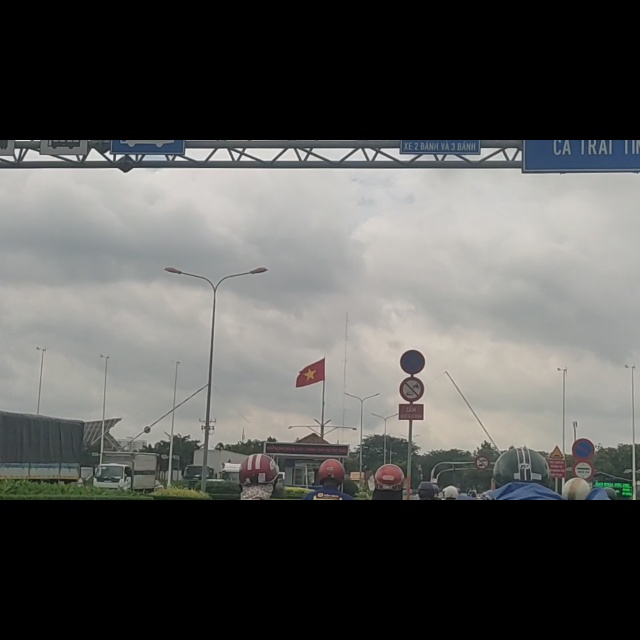bien_chi_dan: (400, 420, 425, 466), (400, 373, 426, 416), (571, 530, 595, 567), (573, 569, 594, 604), (549, 539, 565, 565), (475, 561, 489, 583)
